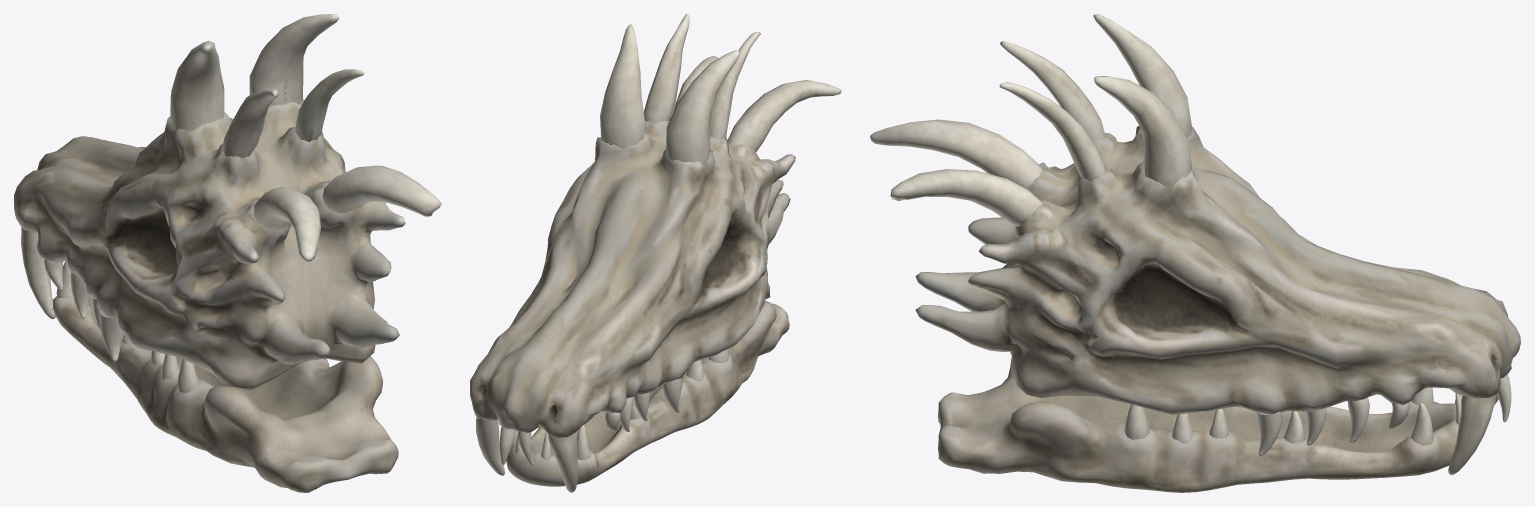
File: dragon_skull.glb
The picture shows the model from 3 angles, left to right: view 1: azimuth 30°, elevation 25°; view 2: azimuth 150°, elevation 25°; view 3: azimuth 270°, elevation 25°; orthographic projection. The views are drawn at different scales.
Visible parts, largest first — view 1: Skull_low, SkullDown_low, TeethUp_low, TeethDown_low; view 2: Skull_low, TeethUp_low, SkullDown_low, TeethDown_low; view 3: Skull_low, SkullDown_low, TeethUp_low, TeethDown_low.
Part boxes in pixels (x1=…): Skull_low: x1=14, y1=99, x2=405, y2=390; SkullDown_low: x1=53, y1=296, x2=398, y2=492; TeethUp_low: x1=21, y1=14, x2=441, y2=361; TeethDown_low: x1=56, y1=260, x2=324, y2=392; Skull_low: x1=470, y1=120, x2=795, y2=437; TeethUp_low: x1=476, y1=14, x2=841, y2=492; SkullDown_low: x1=506, y1=301, x2=789, y2=486; TeethDown_low: x1=513, y1=349, x2=728, y2=460; Skull_low: x1=915, y1=126, x2=1520, y2=414; SkullDown_low: x1=938, y1=358, x2=1458, y2=492; TeethUp_low: x1=870, y1=14, x2=1511, y2=474; TeethDown_low: x1=1124, y1=387, x2=1462, y2=445.
Bounding box in the file's own units: 2.17 × 4.01 × 5.61.
1 material, 1 textured.
